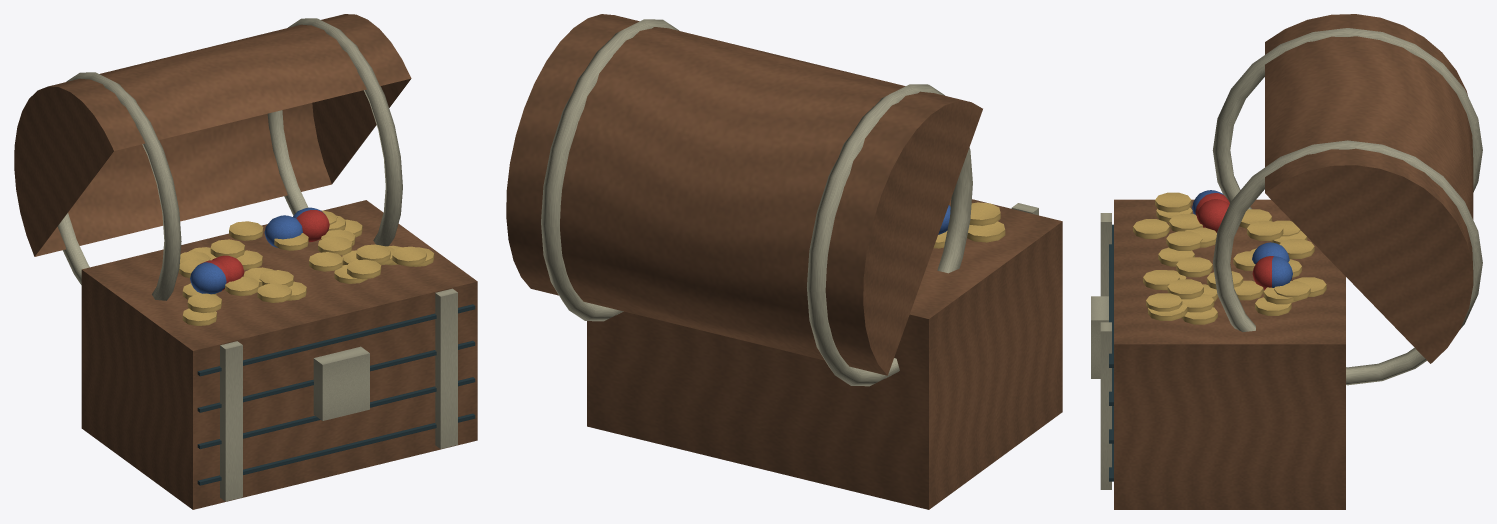
Rendered from treasure.glb.
3 renders of one model, left to right at view 1: azimuth 30°, elevation 25°; view 2: azimuth 150°, elevation 25°; view 3: azimuth 270°, elevation 25°, orthographic. The views are drawn at different scales.
Parts seen in each view (by area): view 1: static_ornament, moving_treasure_lid; view 2: moving_treasure_lid, static_ornament; view 3: static_ornament, moving_treasure_lid.
Boxes of the visible parts, x1=… form: static_ornament: x1=81, y1=200, x2=477, y2=509; moving_treasure_lid: x1=14, y1=14, x2=411, y2=300; moving_treasure_lid: x1=506, y1=14, x2=982, y2=386; static_ornament: x1=587, y1=199, x2=1062, y2=509; static_ornament: x1=1091, y1=190, x2=1345, y2=509; moving_treasure_lid: x1=1212, y1=14, x2=1482, y2=385.
Size of the model in its own units: 0.94 by 1.03 by 1.03.
1 material, 1 textured.
